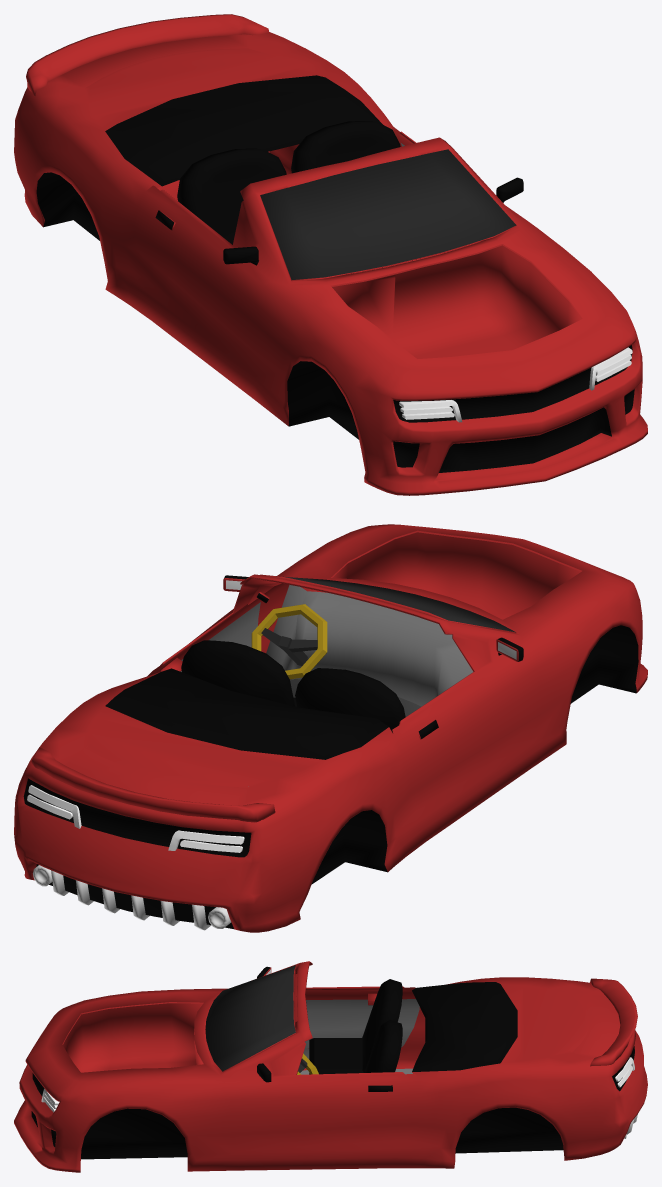
The model's file is ggggg1.fbx.
3 renders of one model, top to bottom at view 1: azimuth 30°, elevation 25°; view 2: azimuth 150°, elevation 25°; view 3: azimuth 270°, elevation 25°, orthographic. The views are drawn at different scales.
Parts seen in each view (by area): view 1: Body.009, car 2.001, Body.028; view 2: Body.009, car 2.001, Body.028; view 3: Body.009, car 2.001, Body.028.
Boxes of the visible parts, left/top/right/bottom form: Body.009: left=14, top=14, right=647, bottom=495; car 2.001: left=177, top=121, right=400, bottom=244; Body.028: left=399, top=347, right=632, bottom=422; Body.009: left=14, top=524, right=647, bottom=932; car 2.001: left=181, top=604, right=405, bottom=732; Body.028: left=27, top=785, right=244, bottom=852; Body.009: left=14, top=961, right=647, bottom=1172; car 2.001: left=297, top=979, right=402, bottom=1074; Body.028: left=41, top=1057, right=634, bottom=1112.
Bounding box in the file's own units: 207 × 117 × 517.
